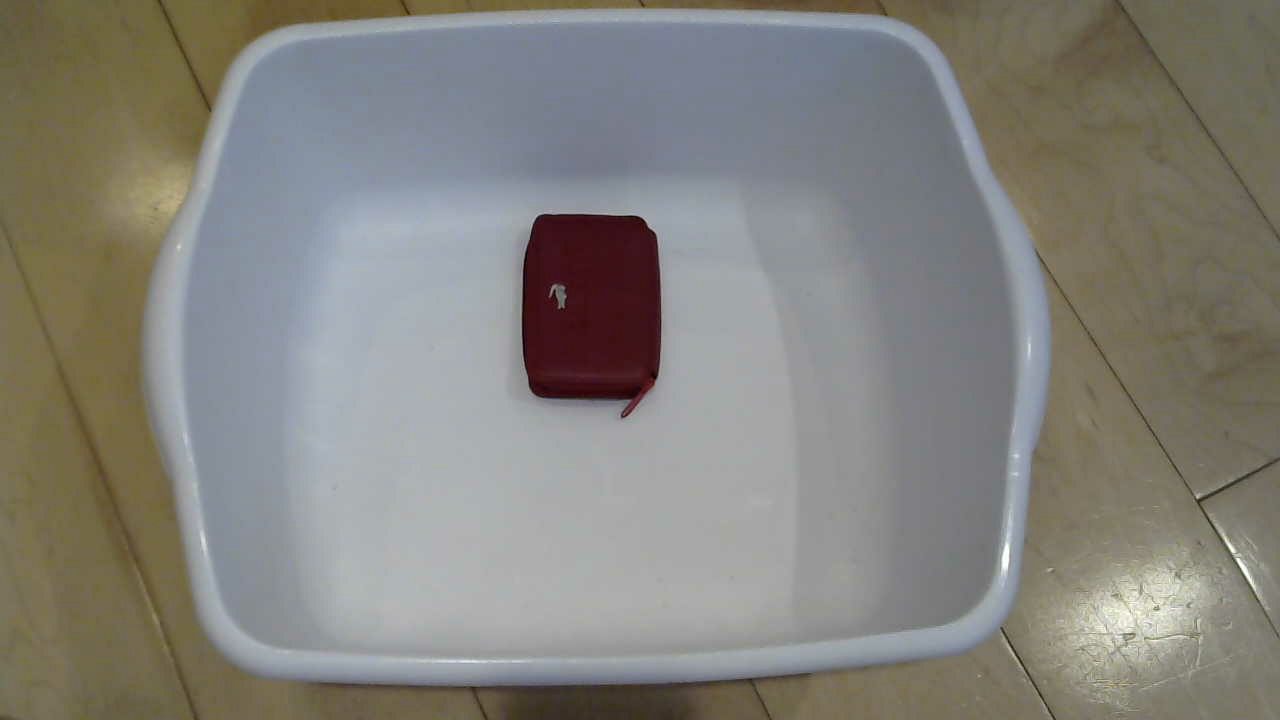wallet: (494, 198, 682, 429)
